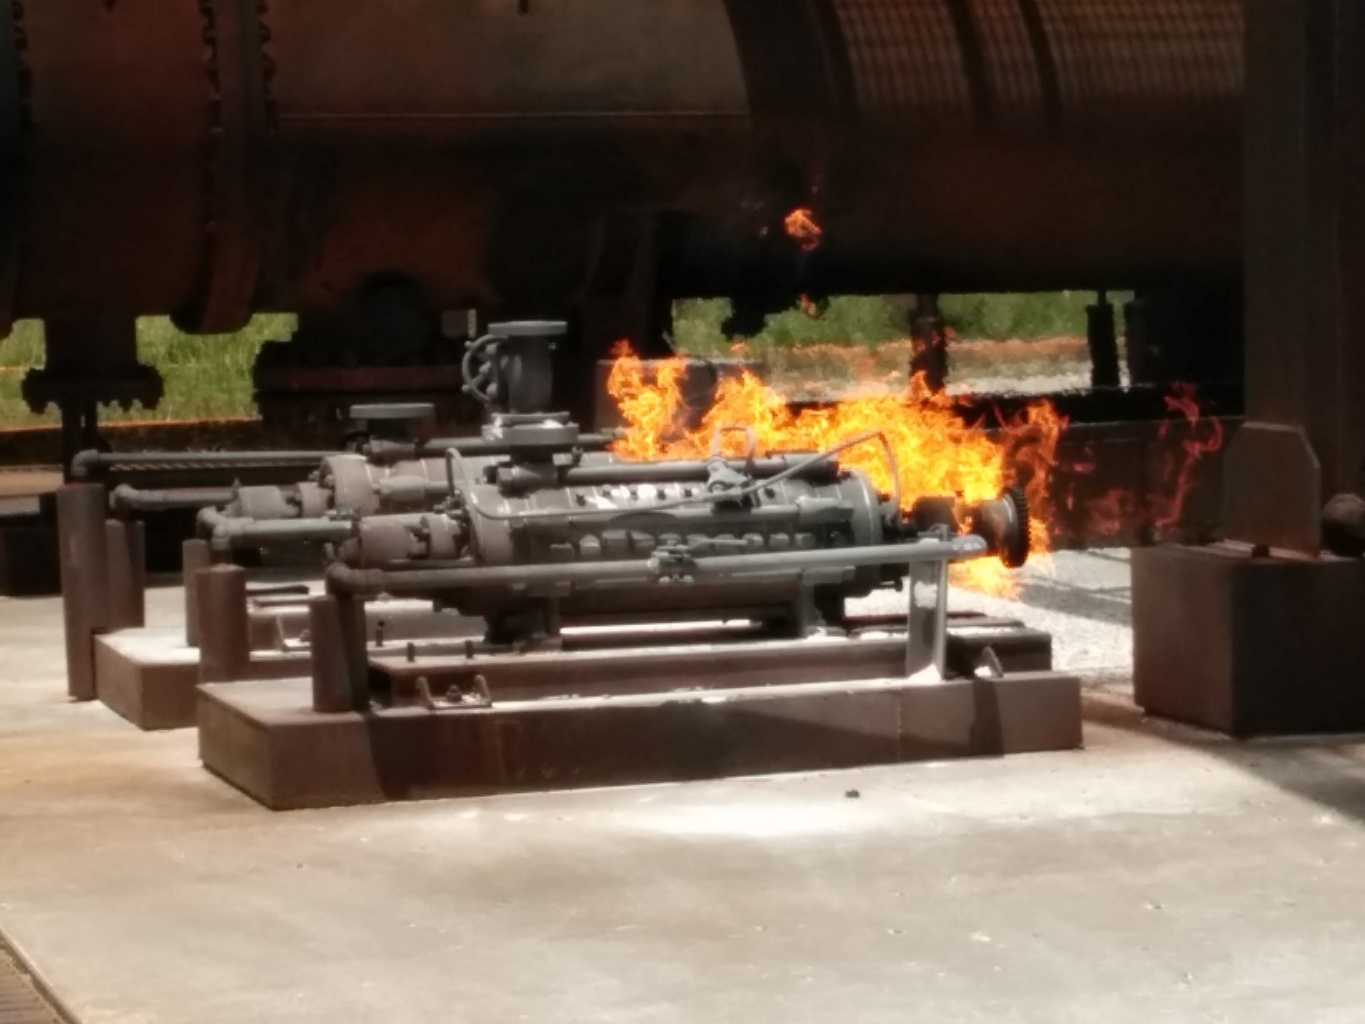fire: (606, 325, 1081, 592)
